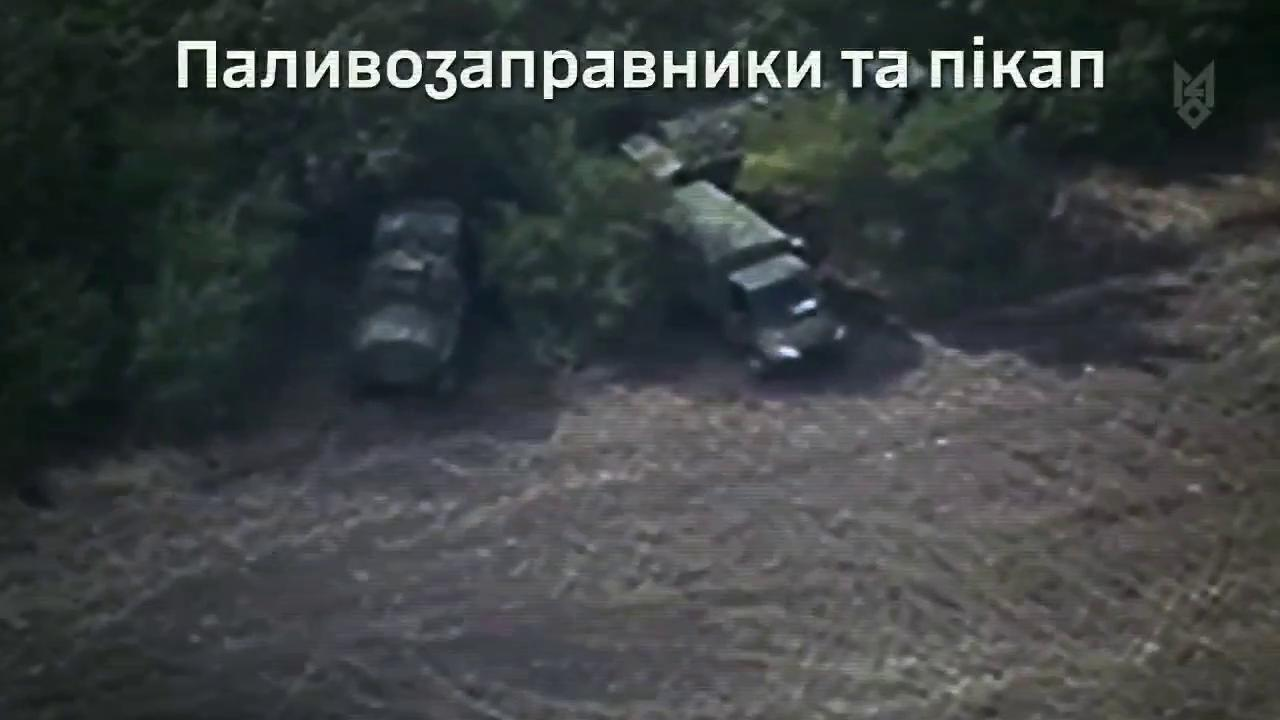tank: (636, 180, 852, 388), (362, 205, 472, 402), (614, 92, 851, 183)
